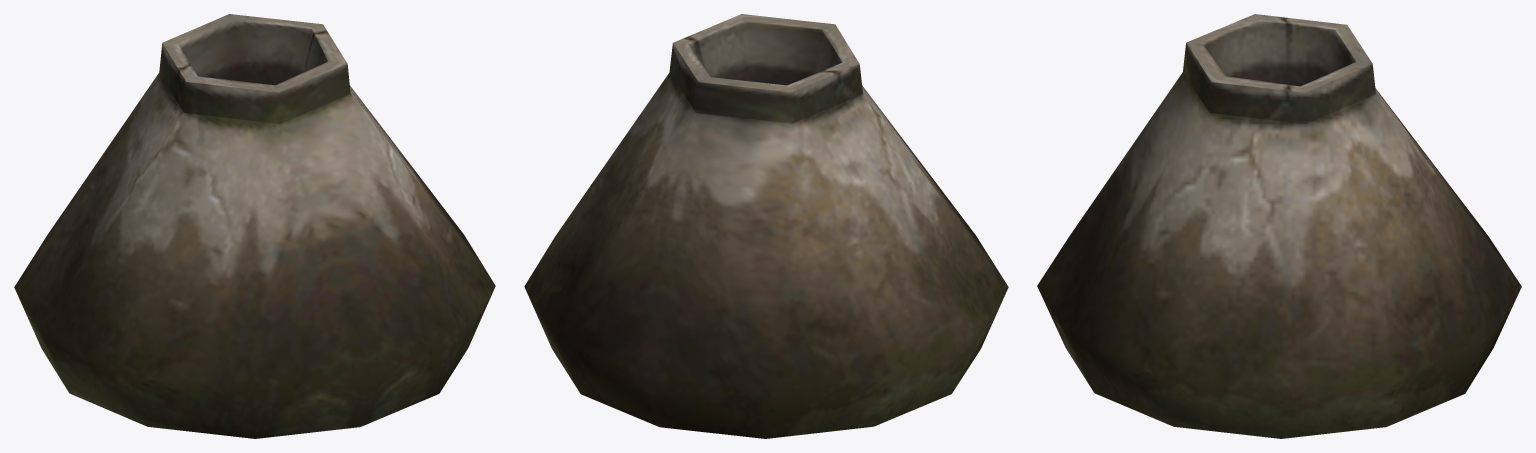
Rendered from 1004_Item_guanzi_1.FBX.
The picture shows the model from 3 angles, left to right: view 1: azimuth 30°, elevation 25°; view 2: azimuth 150°, elevation 25°; view 3: azimuth 270°, elevation 25°; orthographic projection.
Visible parts, largest first — view 1: 1004_Item_guanzi_1; view 2: 1004_Item_guanzi_1; view 3: 1004_Item_guanzi_1.
Boxes of the visible parts, x1,y1,x2,y2 form: 1004_Item_guanzi_1: [14, 14, 495, 438]; 1004_Item_guanzi_1: [524, 14, 1008, 438]; 1004_Item_guanzi_1: [1037, 14, 1521, 438].
Bounding box in the file's own units: 55.08 × 55.08 × 36.99.
